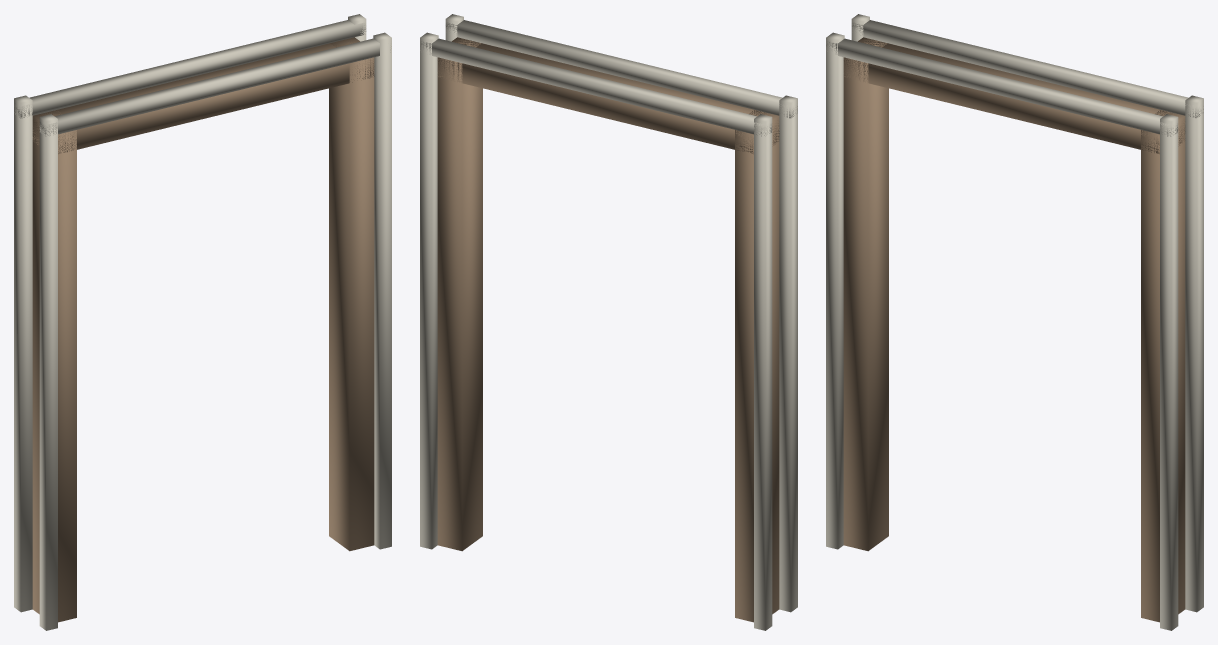
The model's file is doorway_painted_trim_w122_h200_d16.glb.
3 renders of one model, left to right at view 1: azimuth 30°, elevation 25°; view 2: azimuth 150°, elevation 25°; view 3: azimuth 330°, elevation 25°, orthographic.
Parts seen in each view (by area): view 1: world; view 2: world; view 3: world.
Part boxes in pixels (x1,y1,x2,y2): world: [14, 14, 391, 630]; world: [420, 14, 797, 630]; world: [826, 14, 1203, 630].
Bounding box in the file's own units: 1.55 × 2.18 × 0.2496.
